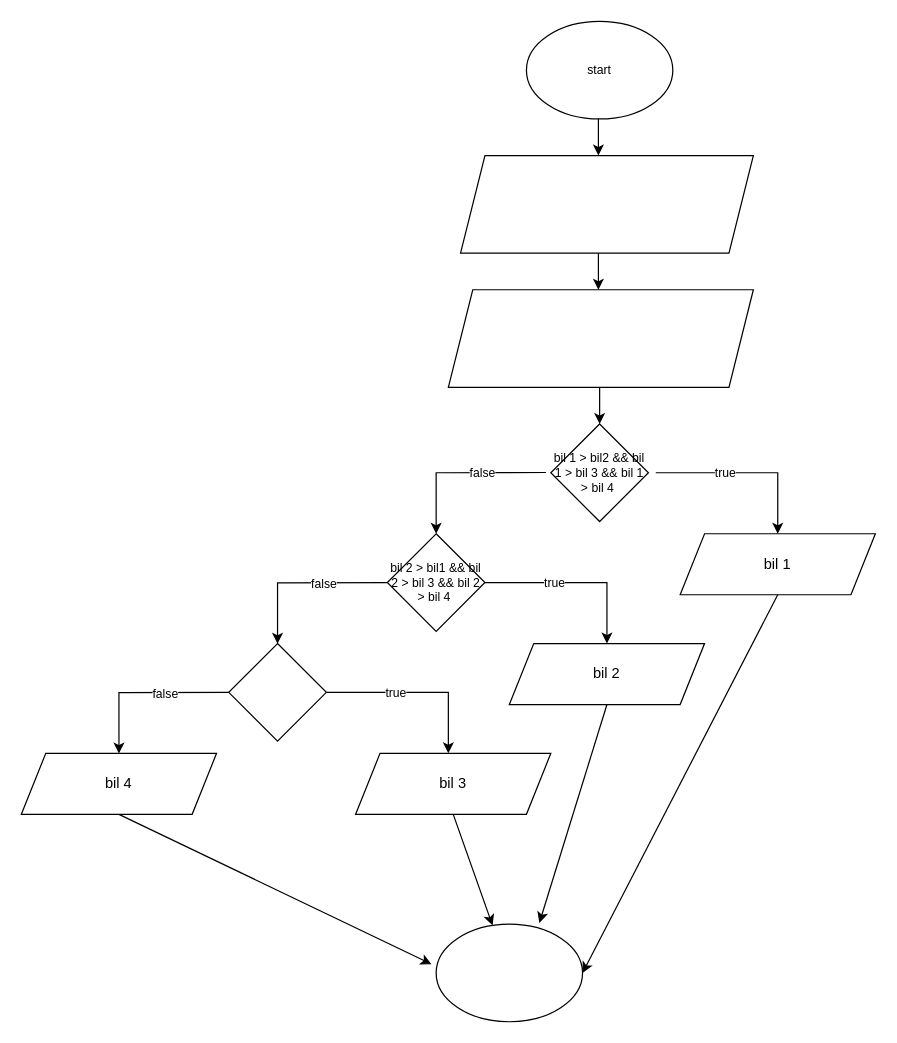
Some shapes in this 897 by 1043 pixel diagram are drawn without their labels. The centre of each missing label's shape, as x and y in pixels:
bil 3 > bil1 && bil 3 > bil 2 && bil 3 > bil 4: point (277, 691)
cin bil1, bil2, bil3, bil4: point (600, 338)
end: point (509, 972)
input bil1, bil2, bil3, bil4: point (606, 203)
